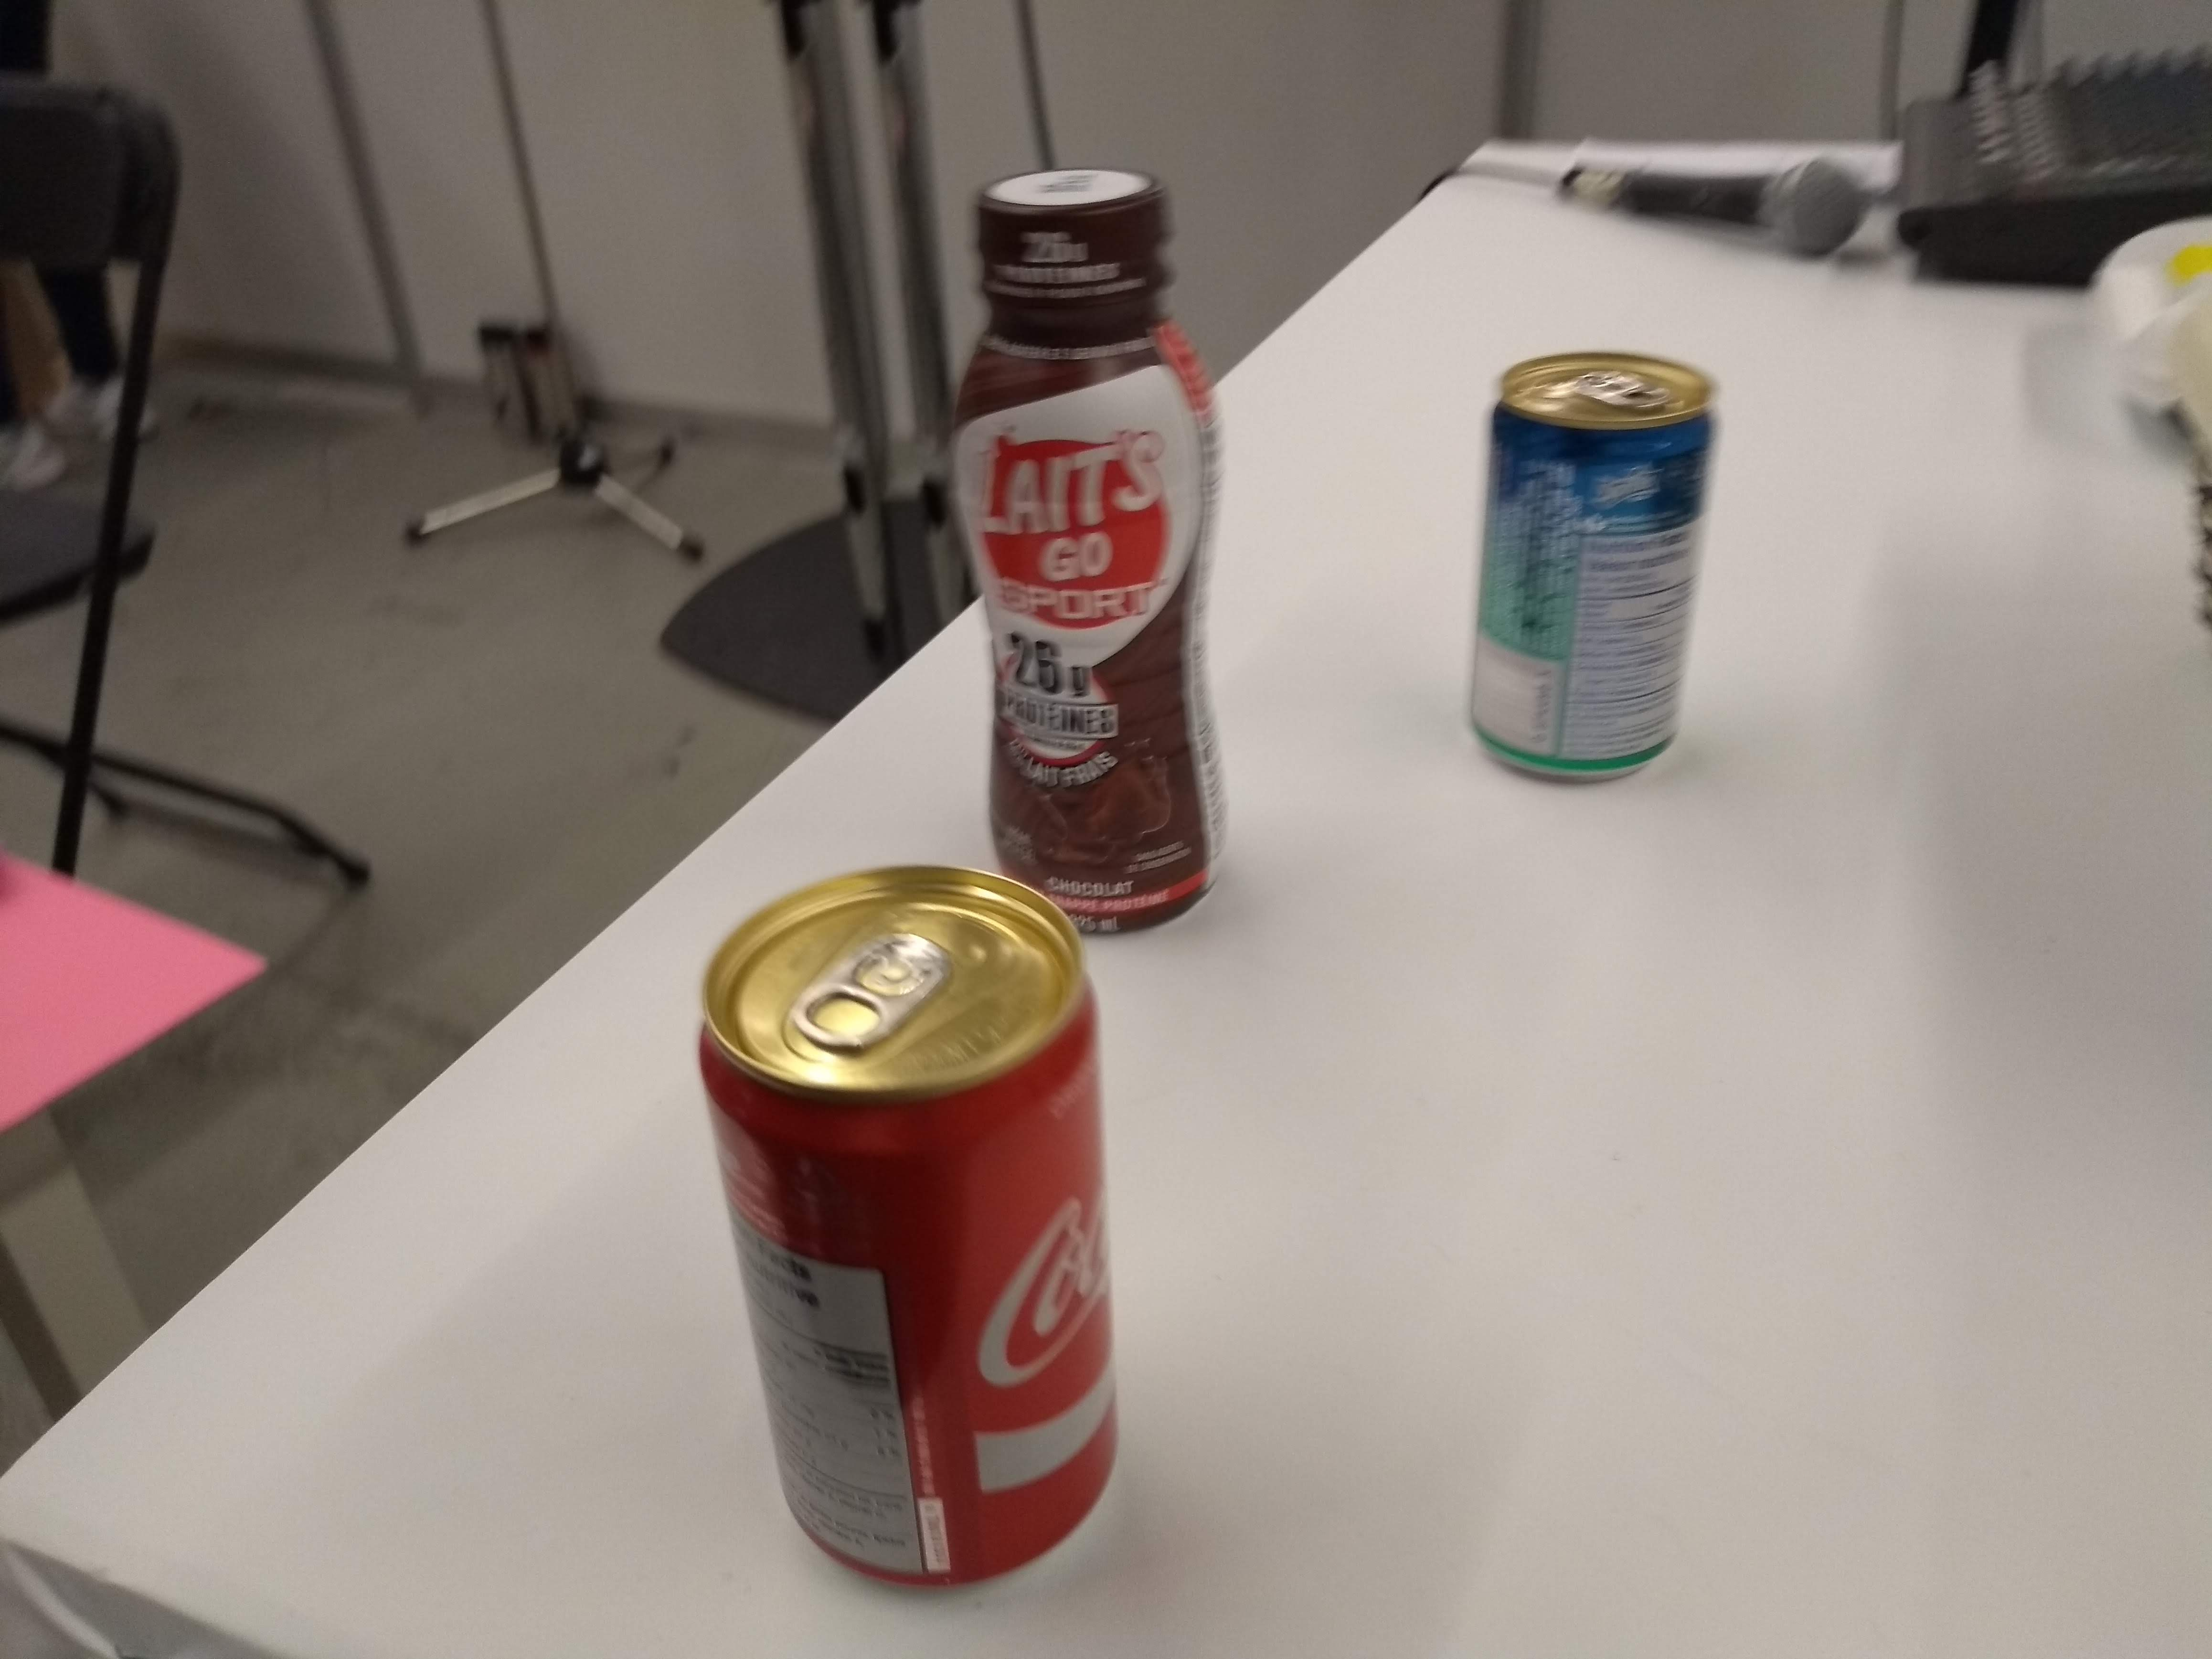chocolate_drink: (961, 153, 1228, 934)
coke: (685, 850, 1120, 1600)
sprite: (1449, 340, 1733, 803)
